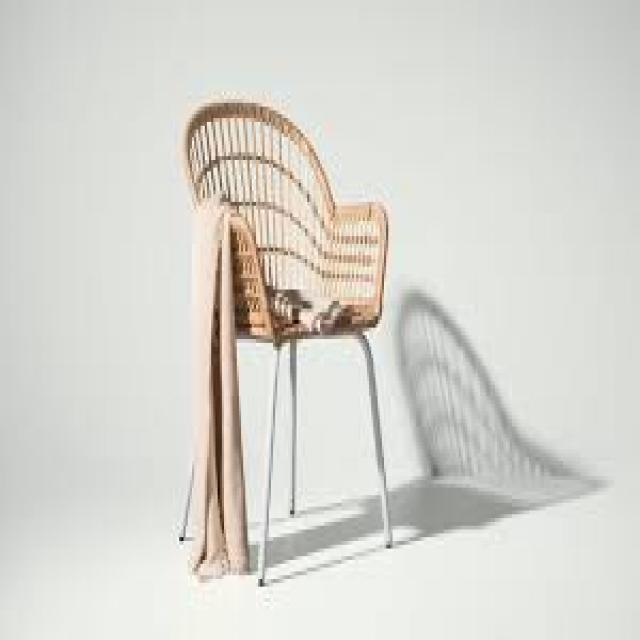chair: (183, 91, 398, 586)
